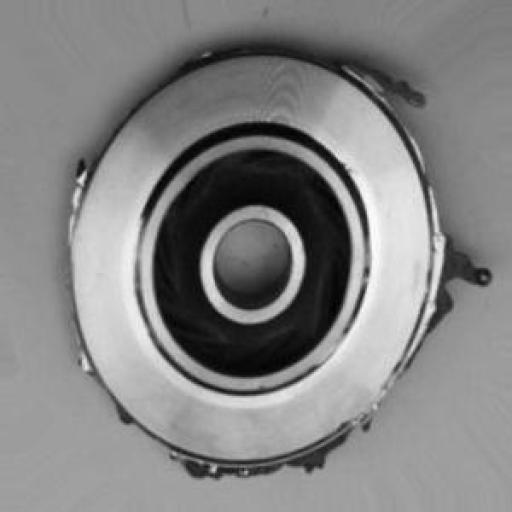defect: (40, 28, 502, 496)
